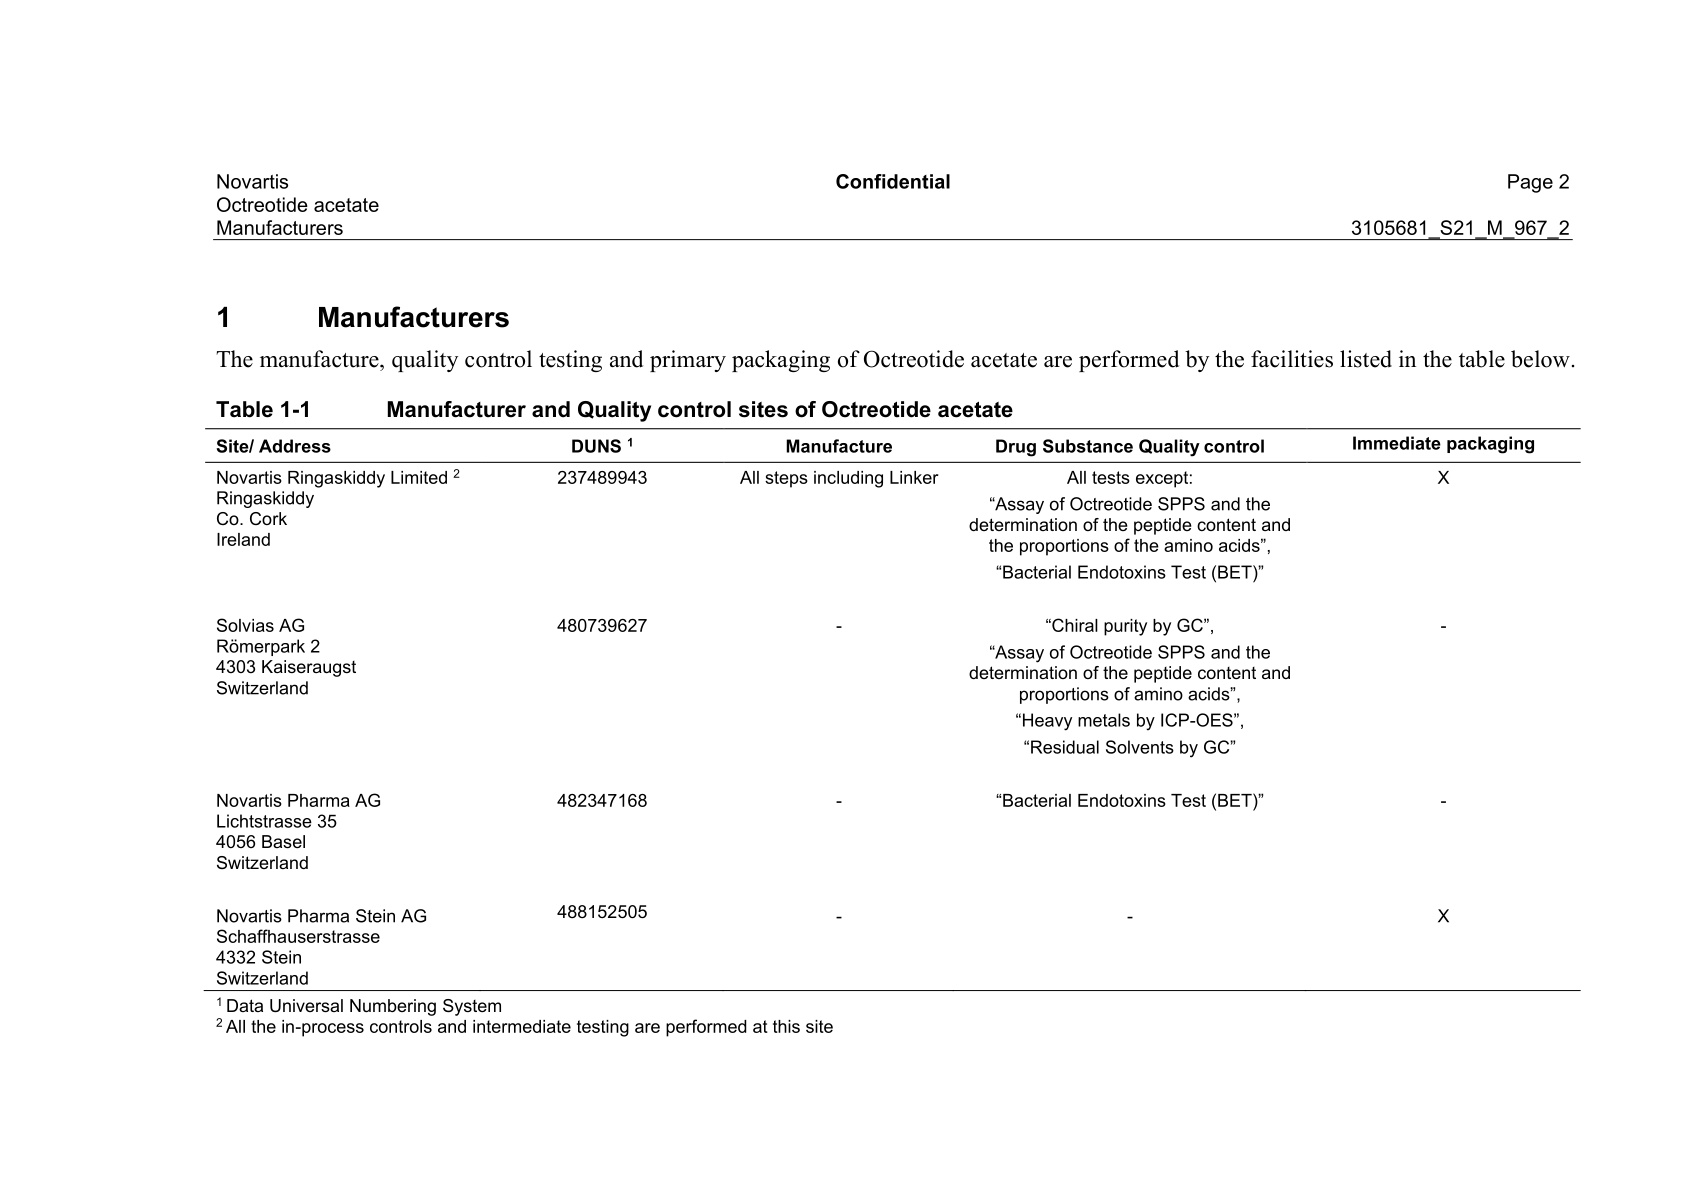partial_lined: (205, 427, 1584, 992)
